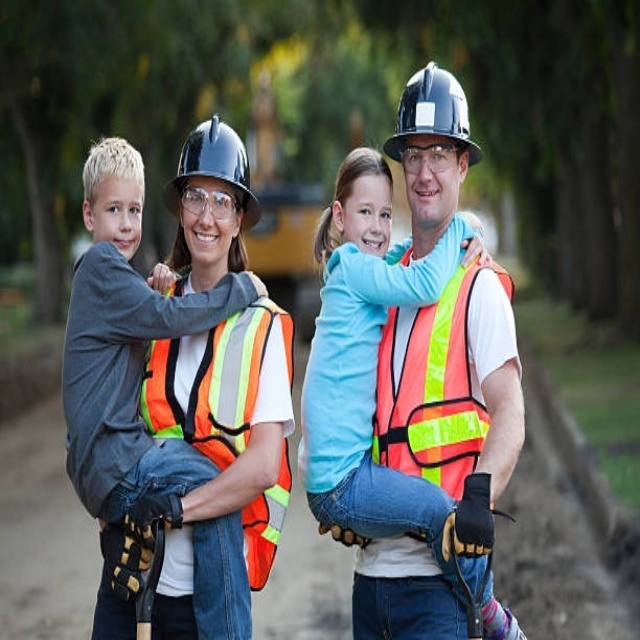Gafas: (181, 182, 239, 221), (399, 140, 459, 177)
Guantes: (98, 485, 184, 604), (449, 466, 497, 560)
Sin_gafas: (348, 198, 394, 224), (96, 196, 143, 220)
Sin_guantes: (459, 235, 494, 273), (146, 260, 176, 296)
Sin_mascara: (413, 184, 441, 215), (190, 224, 216, 253), (112, 229, 135, 259), (361, 234, 385, 254)
